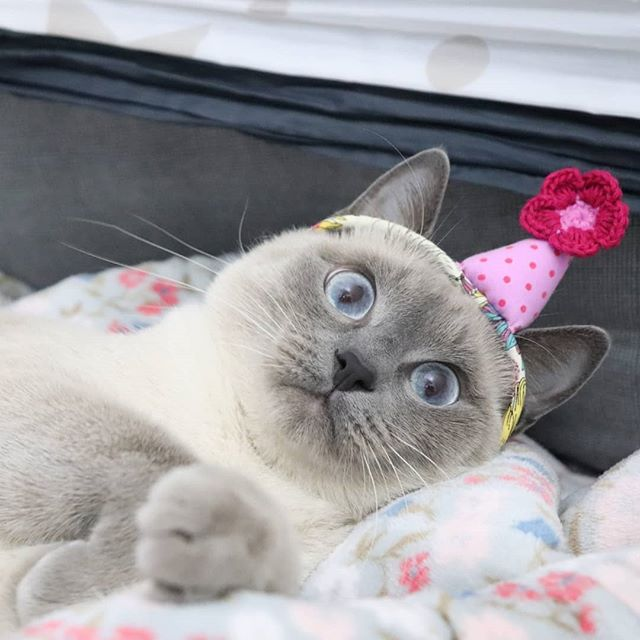cat: (219, 150, 611, 542)
